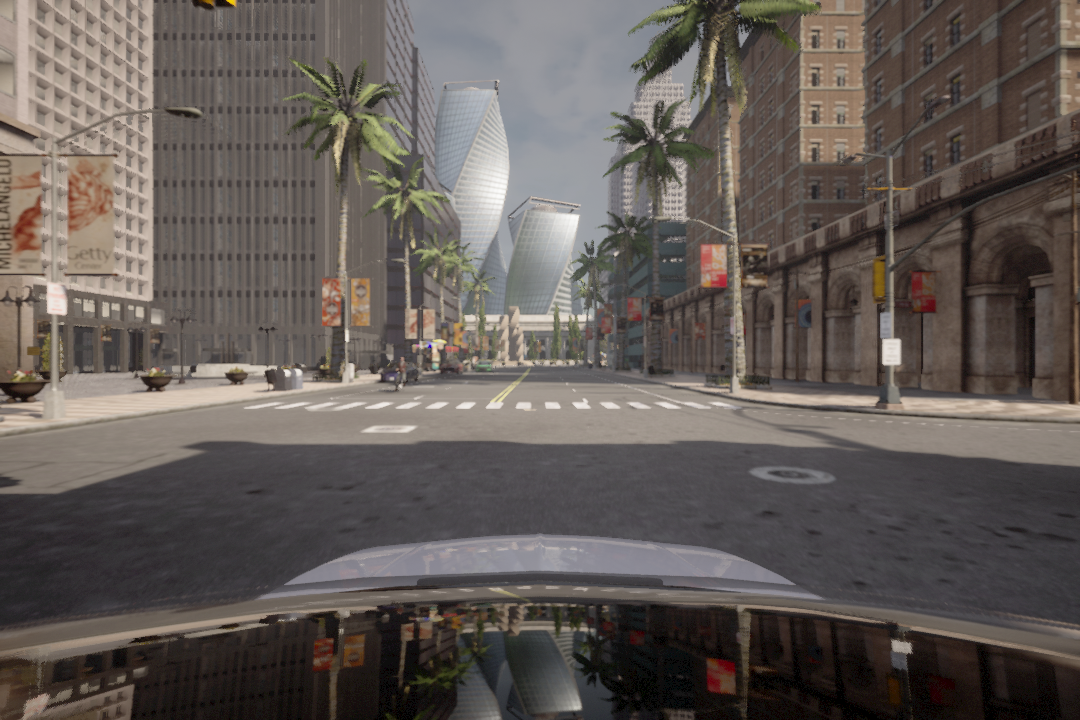walkside: (247, 396, 748, 417)
